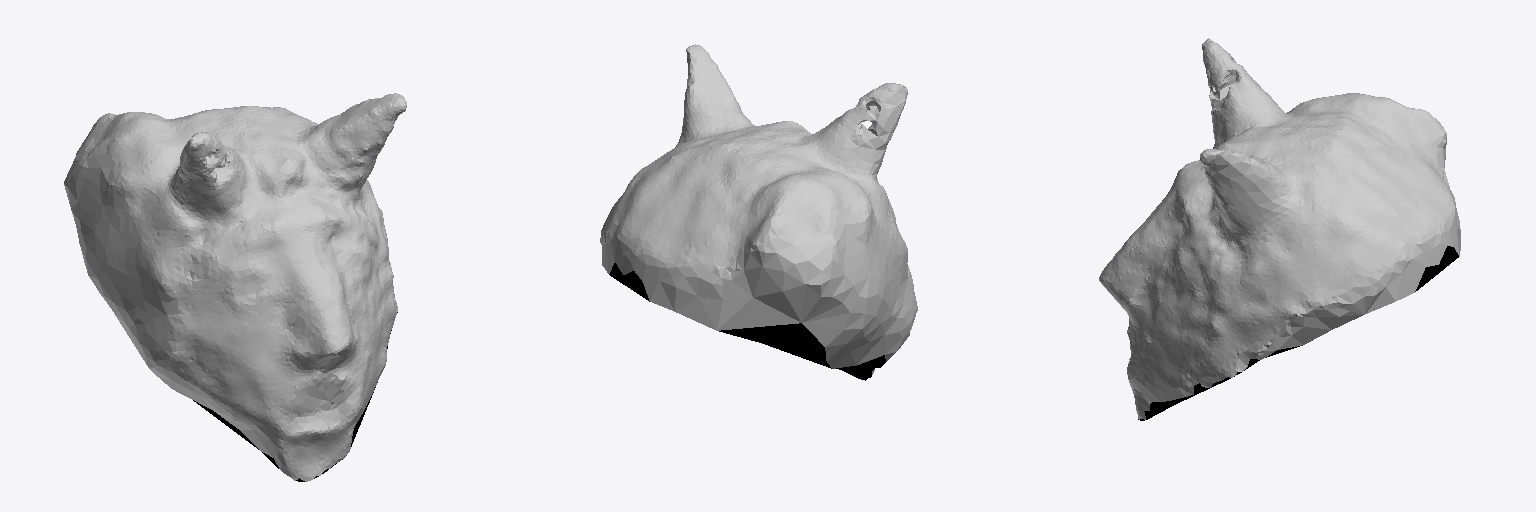
Rendered from HEAD.obj.
3 views of the same model, side by side, from view 1: azimuth 30°, elevation 25°; view 2: azimuth 150°, elevation 25°; view 3: azimuth 270°, elevation 25° (orthographic).
Visible parts, largest first — view 1: HEAD; view 2: HEAD; view 3: HEAD.
Part boxes in pixels (left/top/right/bottom): HEAD: left=64, top=93, right=406, bottom=481; HEAD: left=600, top=44, right=917, bottom=380; HEAD: left=1099, top=38, right=1460, bottom=420.
Size of the model in its own units: 0.7962 by 0.9578 by 0.9264.